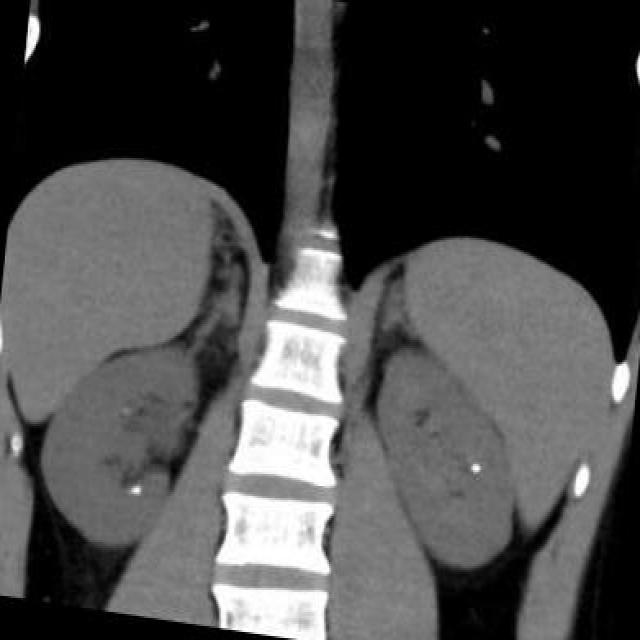Tas_Var: (464, 453, 485, 481), (126, 481, 144, 497)
